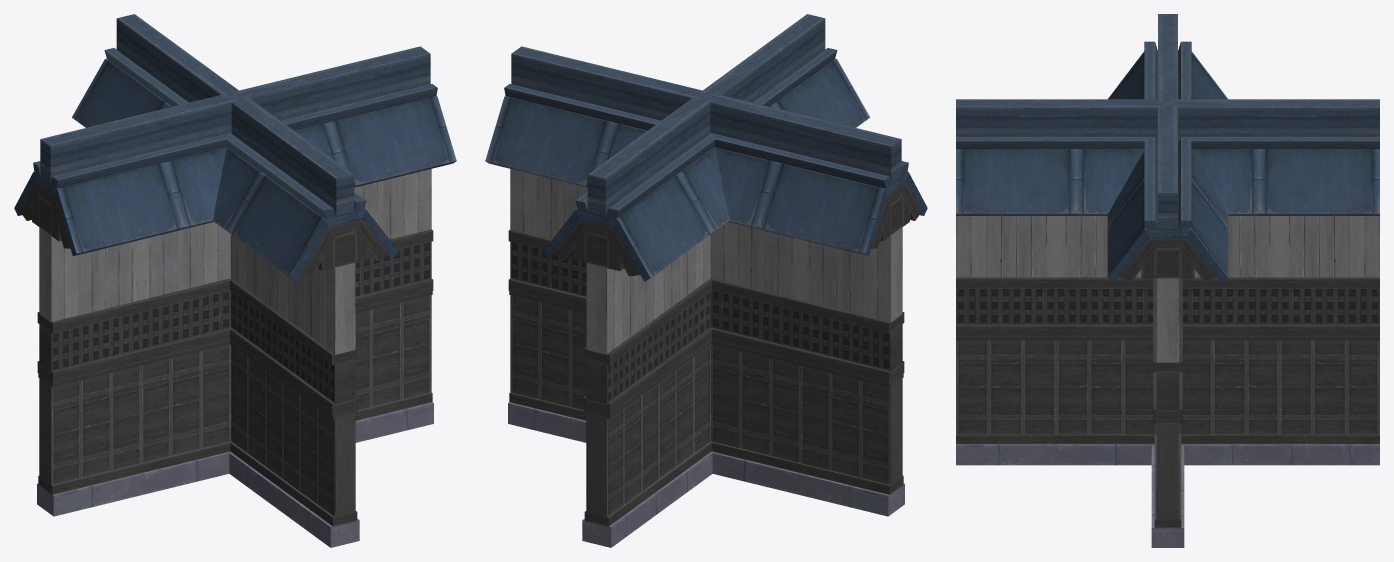
The model's file is Homeworld_Exterior_Dq_Build_Wall_02_Vo.fbx.
The picture shows the model from 3 angles, left to right: view 1: azimuth 30°, elevation 25°; view 2: azimuth 150°, elevation 25°; view 3: azimuth 270°, elevation 25°; orthographic projection. The views are drawn at different scales.
Parts seen in each view (by area): view 1: Homeworld_Exterior_Dq_Build_Wall_02_Vo; view 2: Homeworld_Exterior_Dq_Build_Wall_02_Vo; view 3: Homeworld_Exterior_Dq_Build_Wall_02_Vo.
Boxes of the visible parts, x1,y1,x2,y2 form: Homeworld_Exterior_Dq_Build_Wall_02_Vo: (14,14,456,547); Homeworld_Exterior_Dq_Build_Wall_02_Vo: (485,14,927,547); Homeworld_Exterior_Dq_Build_Wall_02_Vo: (956,14,1379,547).
Bounding box in the file's own units: 5 × 4.62 × 5.
